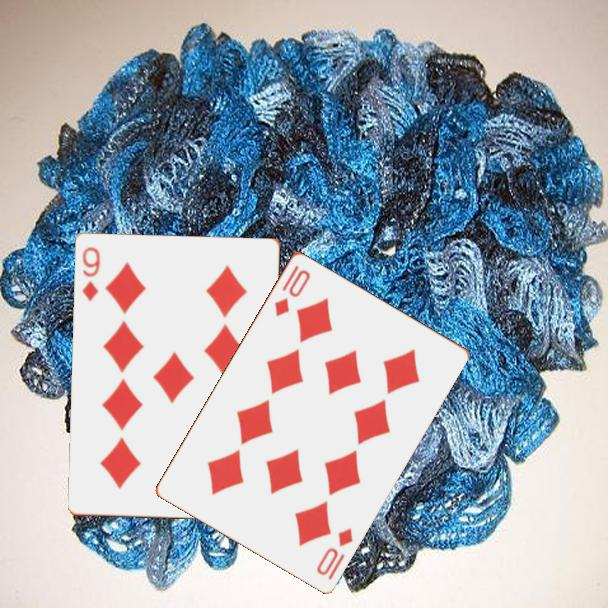d09: (79, 244, 103, 304)
d10: (313, 524, 356, 583), (271, 261, 313, 319)
